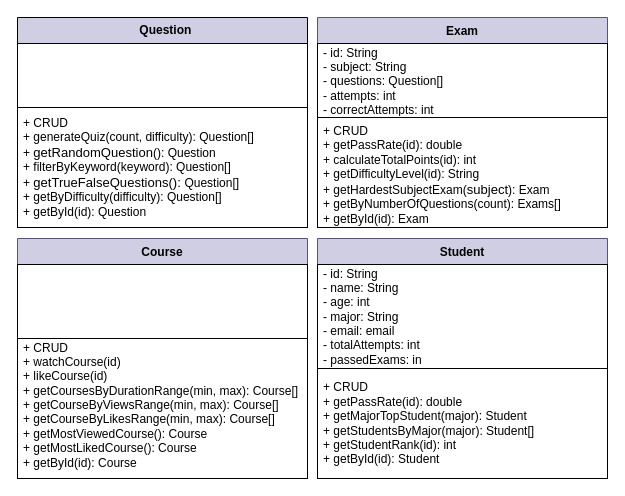
Image size: 625x496. Some labels were removed from this diagram. Each missing label, with the centre of its shape:
- id: String - name: String - duration: int - views: int - likes: int: pixel 162 301
- id: String - question: String - answer: String - difficulty: String: pixel 162 75
